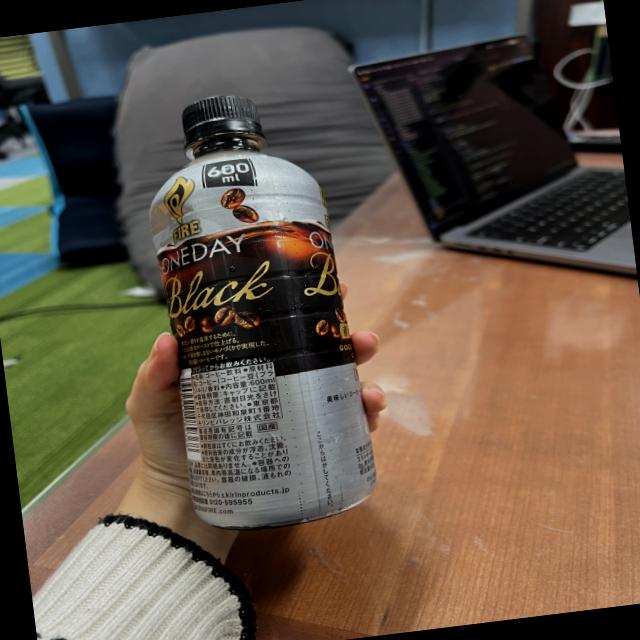coffee-black: (136, 82, 366, 536)
